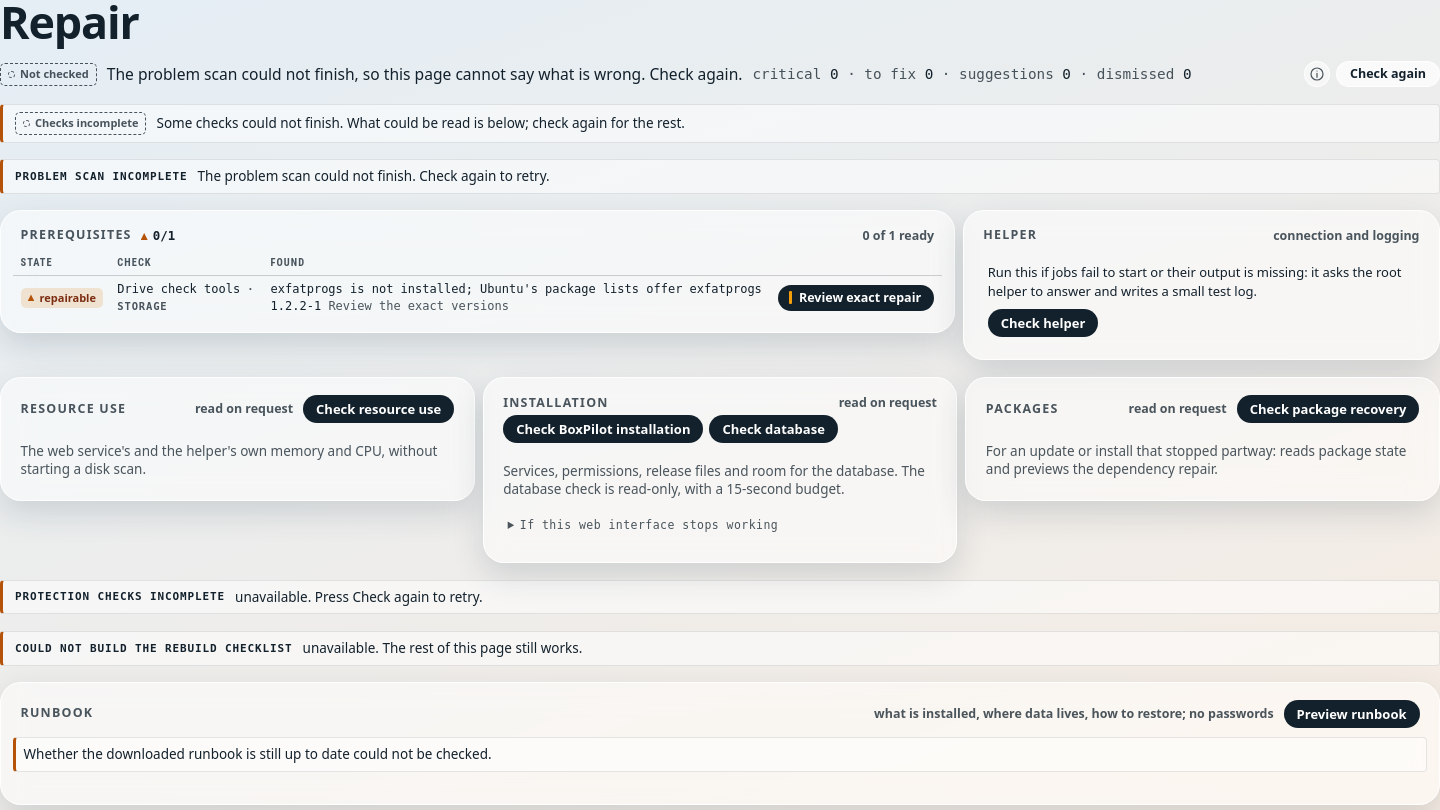
Test: Repair Center › reviews a pinned repair through the registry inspect and stages it in the shared dialog
Click the button "Review exact repair": click(856, 298) [778,285,934,311]
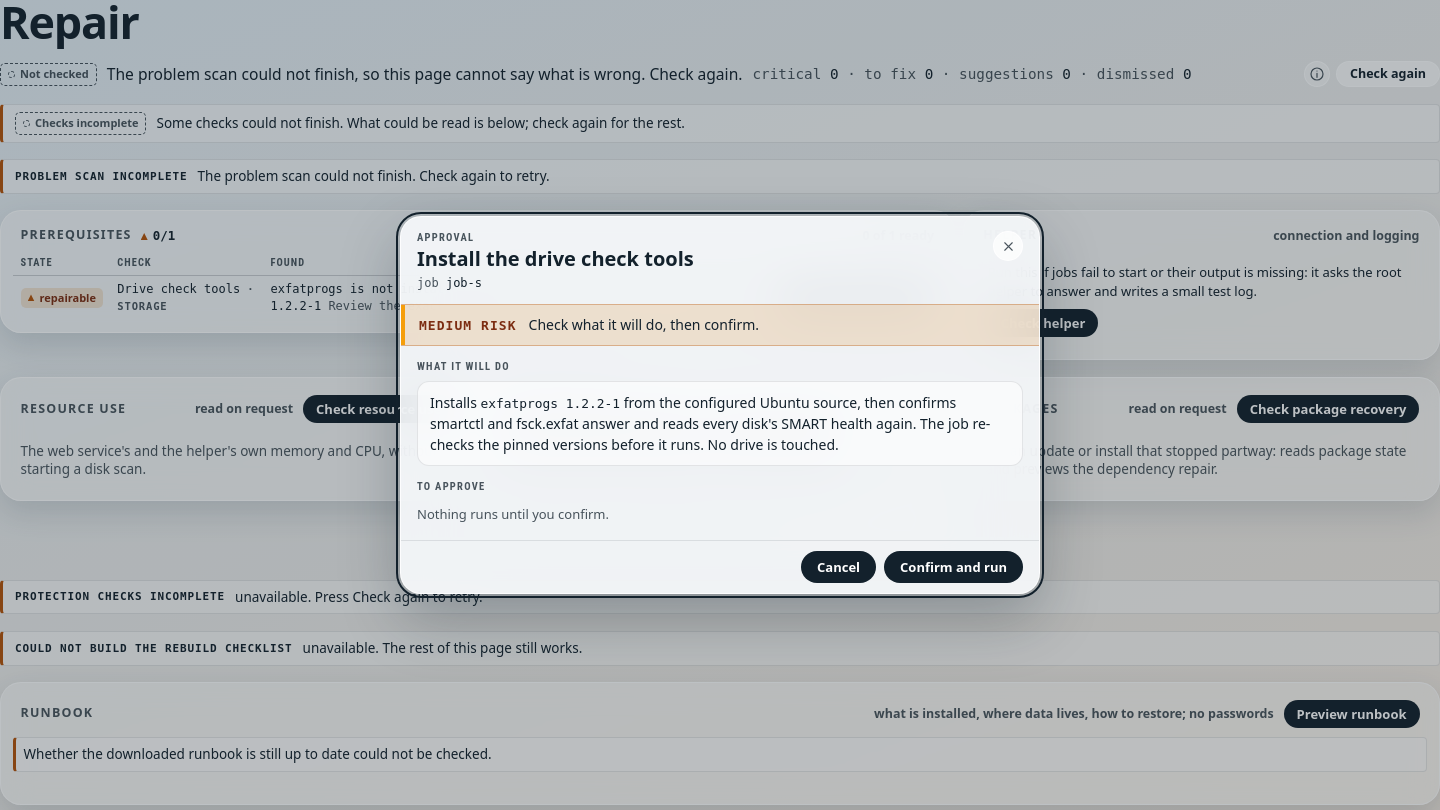
Expected: the heading "Install the drive check tools" is shown, [417,247,694,271]
Expected: the text "Medium risk" is shown, [419,318,516,333]
Expected: the text "exfatprogs 1.2.2-1" is shown, [481,396,620,411]
